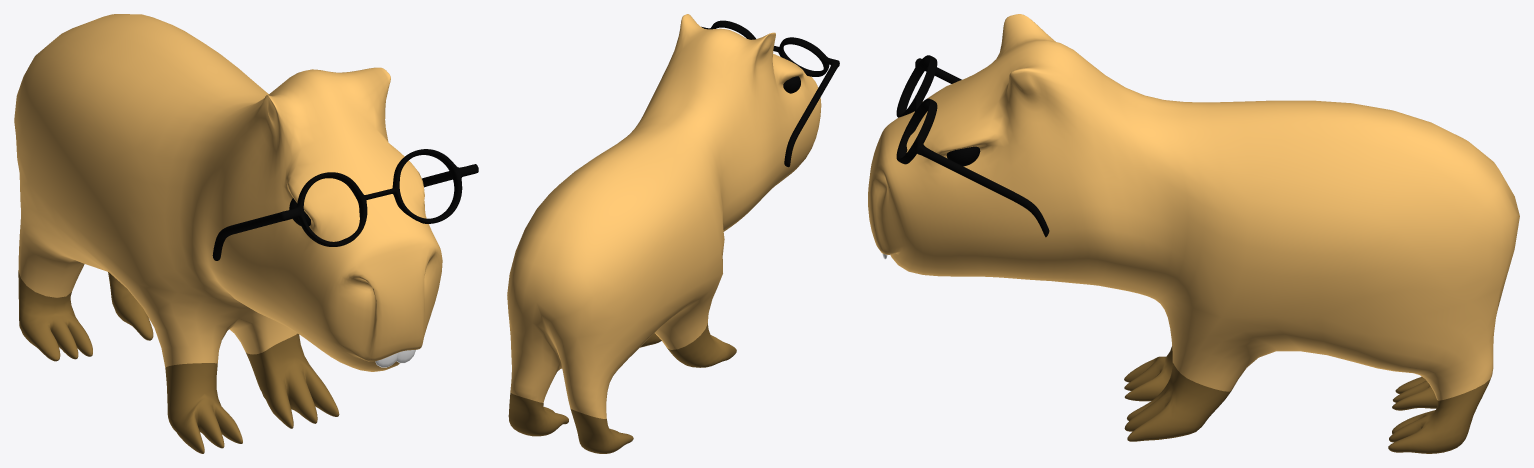
Rendered from ScooberttheNerd.fbx.
The picture shows the model from 3 angles, left to right: view 1: azimuth 30°, elevation 25°; view 2: azimuth 150°, elevation 25°; view 3: azimuth 270°, elevation 25°; orthographic projection. The views are drawn at different scales.
Parts seen in each view (by area): view 1: body, GlassesModel:pCube5; view 2: body, GlassesModel:pCube5; view 3: body, GlassesModel:pCube5.
Part boxes in pixels (x1,y1,x2,y2): body: (14, 14, 442, 453); GlassesModel:pCube5: (212, 149, 478, 260); body: (507, 14, 821, 453); GlassesModel:pCube5: (701, 20, 839, 167); body: (868, 14, 1519, 453); GlassesModel:pCube5: (896, 55, 1049, 237).
Bounding box in the file's own units: 2.26 × 4.52 × 6.91.
